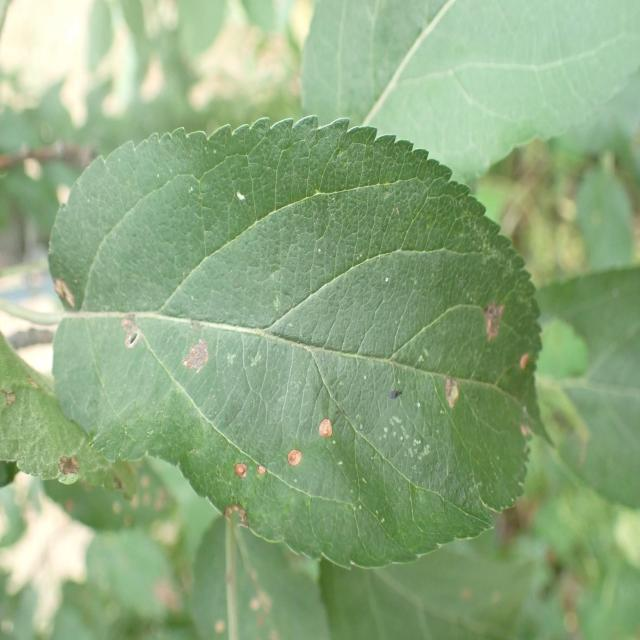frog-eye-leaf-spot: (46, 117, 545, 572)
